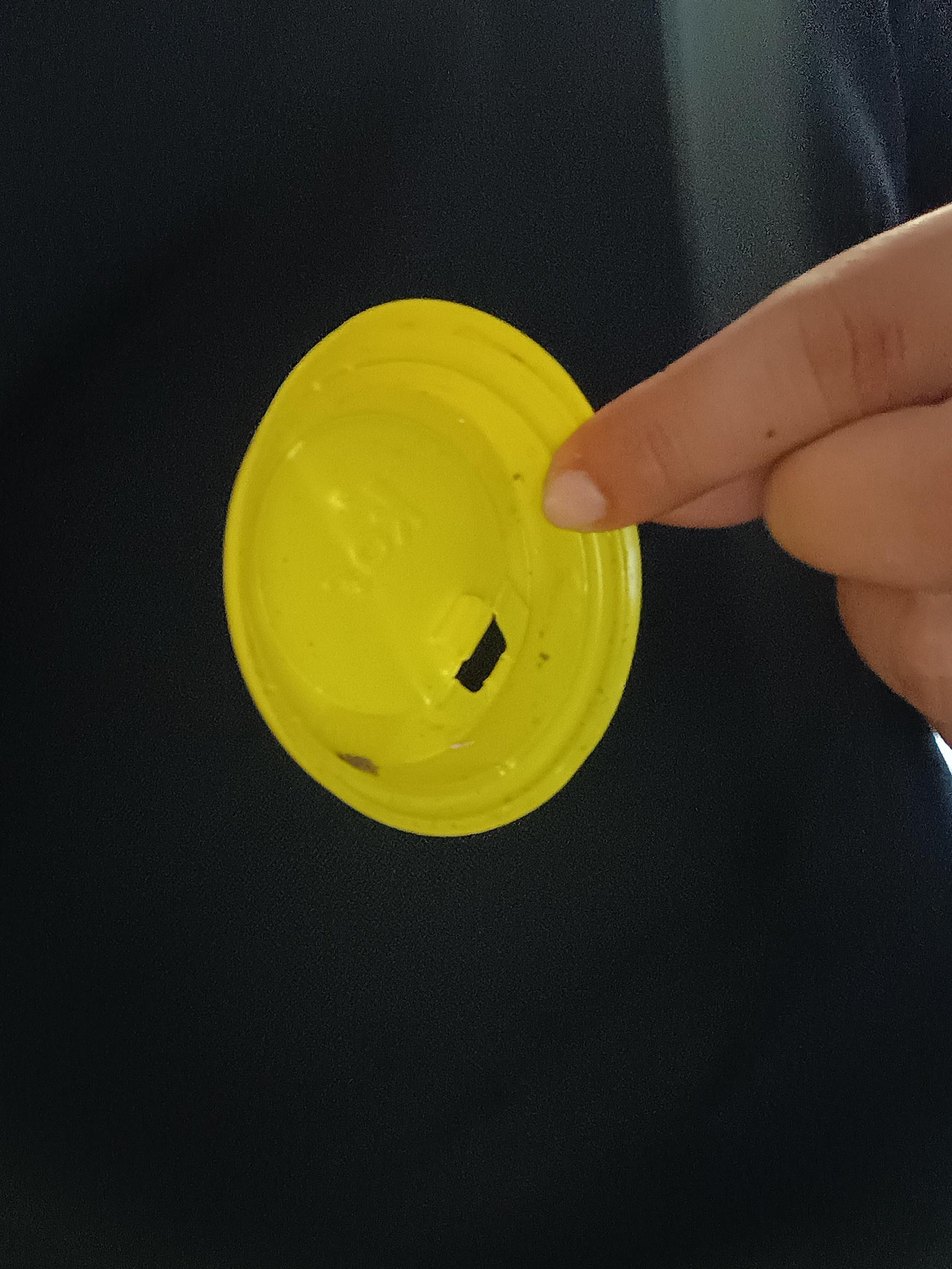Ordinario: (216, 296, 646, 839)
